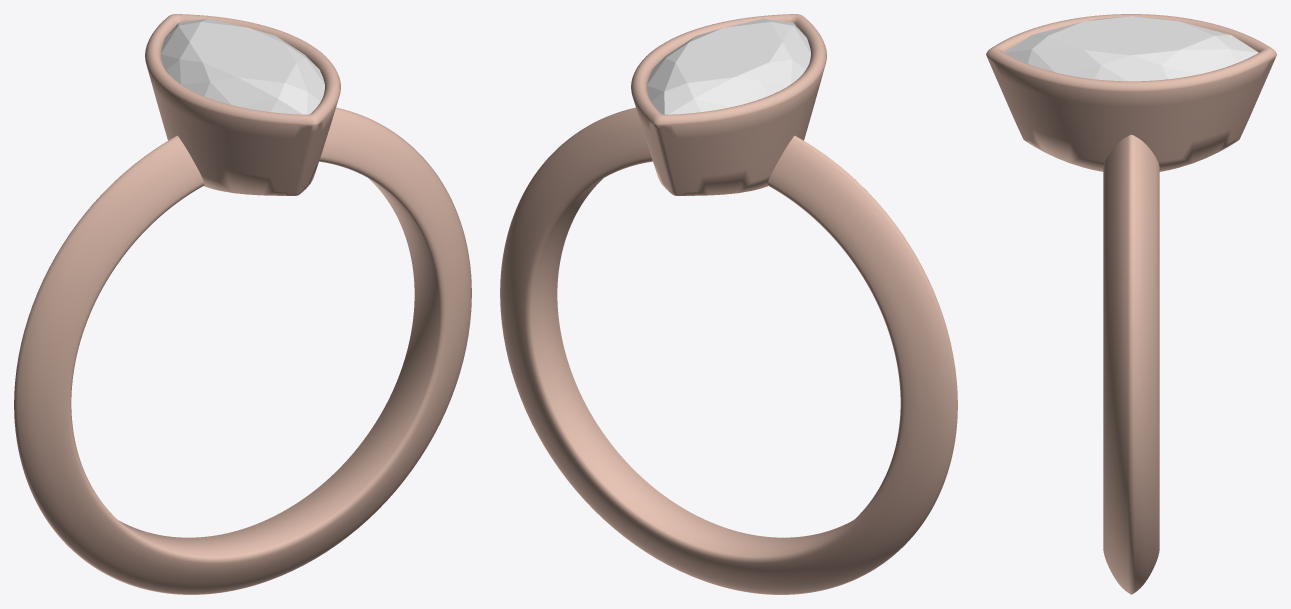
Rendered from diamond-marquise-rosegold-bezelset-knifeedge-nosidestones.glb.
3 renders of one model, left to right at view 1: azimuth 30°, elevation 25°; view 2: azimuth 150°, elevation 25°; view 3: azimuth 270°, elevation 25°, orthographic.
Parts seen in each view (by area): view 1: metal.005, stone; view 2: metal.005, stone; view 3: metal.005, stone.
Boxes of the visible parts, x1,y1,x2,y2 form: metal.005: (14, 14, 471, 594); stone: (161, 18, 324, 114); metal.005: (500, 14, 957, 594); stone: (647, 18, 810, 114); metal.005: (986, 14, 1276, 594); stone: (1004, 16, 1258, 81).
Size of the model in its own units: 20.49 by 22.93 by 11.31.
